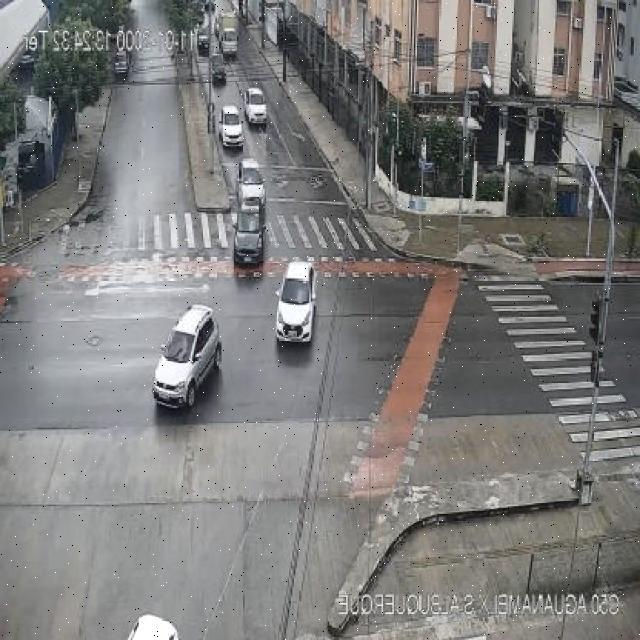Car: (152, 305, 222, 410), (274, 262, 318, 347), (231, 196, 269, 268), (236, 158, 267, 207), (219, 102, 247, 152), (242, 84, 270, 127), (197, 26, 215, 58), (210, 55, 228, 83)
Truck: (218, 11, 240, 59)
